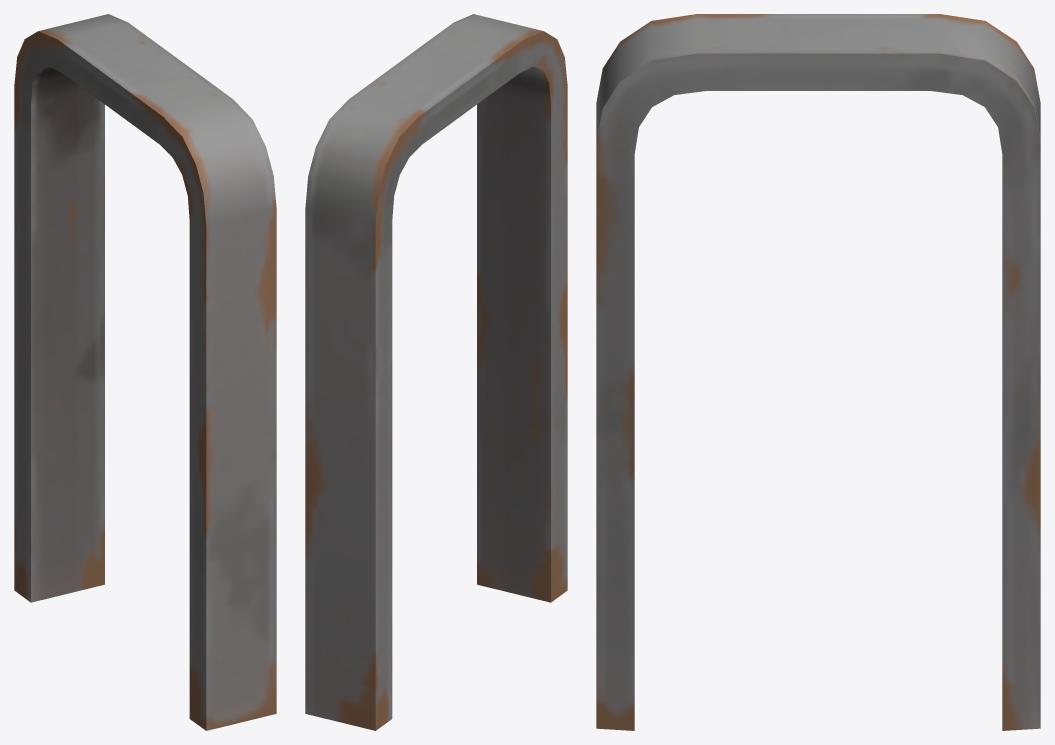
Rendered from SM_Door__2.fbx.
3 renders of one model, left to right at view 1: azimuth 30°, elevation 25°; view 2: azimuth 150°, elevation 25°; view 3: azimuth 270°, elevation 25°, orthographic. The views are drawn at different scales.
Visible parts, largest first — view 1: OutDoor; view 2: OutDoor; view 3: OutDoor.
Part boxes in pixels (x1,y1,x2,y2): OutDoor: (14, 14, 276, 730); OutDoor: (305, 14, 567, 730); OutDoor: (596, 14, 1040, 730).
Size of the model in its own units: 0.2812 by 2.11 by 1.26.
Materials: 1 (1 with a texture image).
